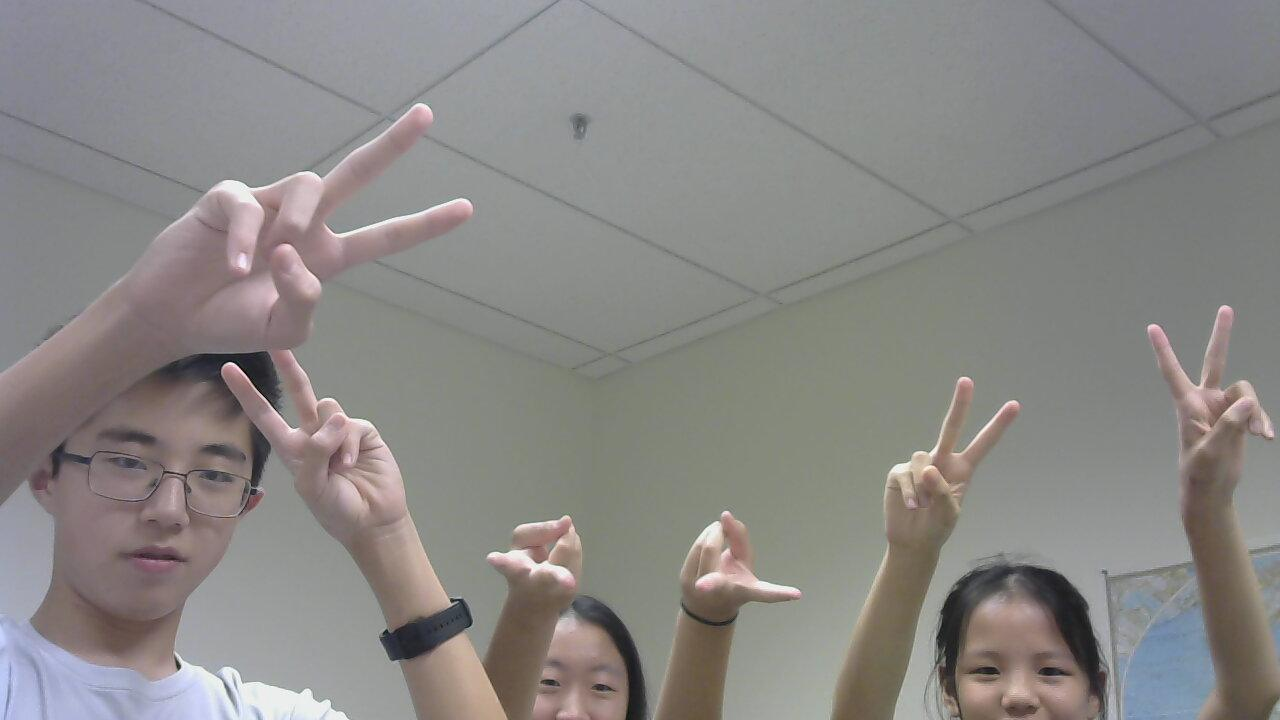peace: (166, 97, 469, 358), (213, 327, 437, 556), (836, 372, 1044, 573), (1116, 312, 1269, 488), (666, 499, 792, 633), (476, 504, 595, 606)
